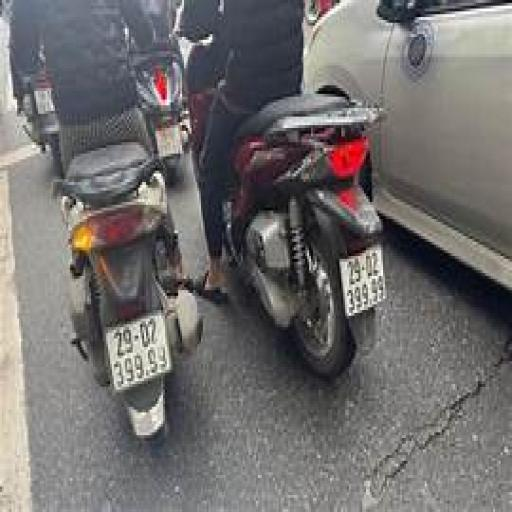place: (106, 321, 176, 382), (343, 259, 393, 312)
